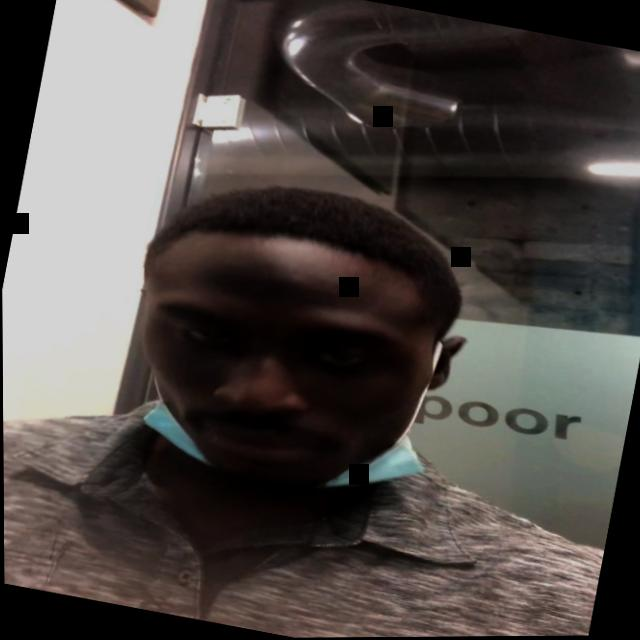NO-Mask: (123, 226, 463, 513)
